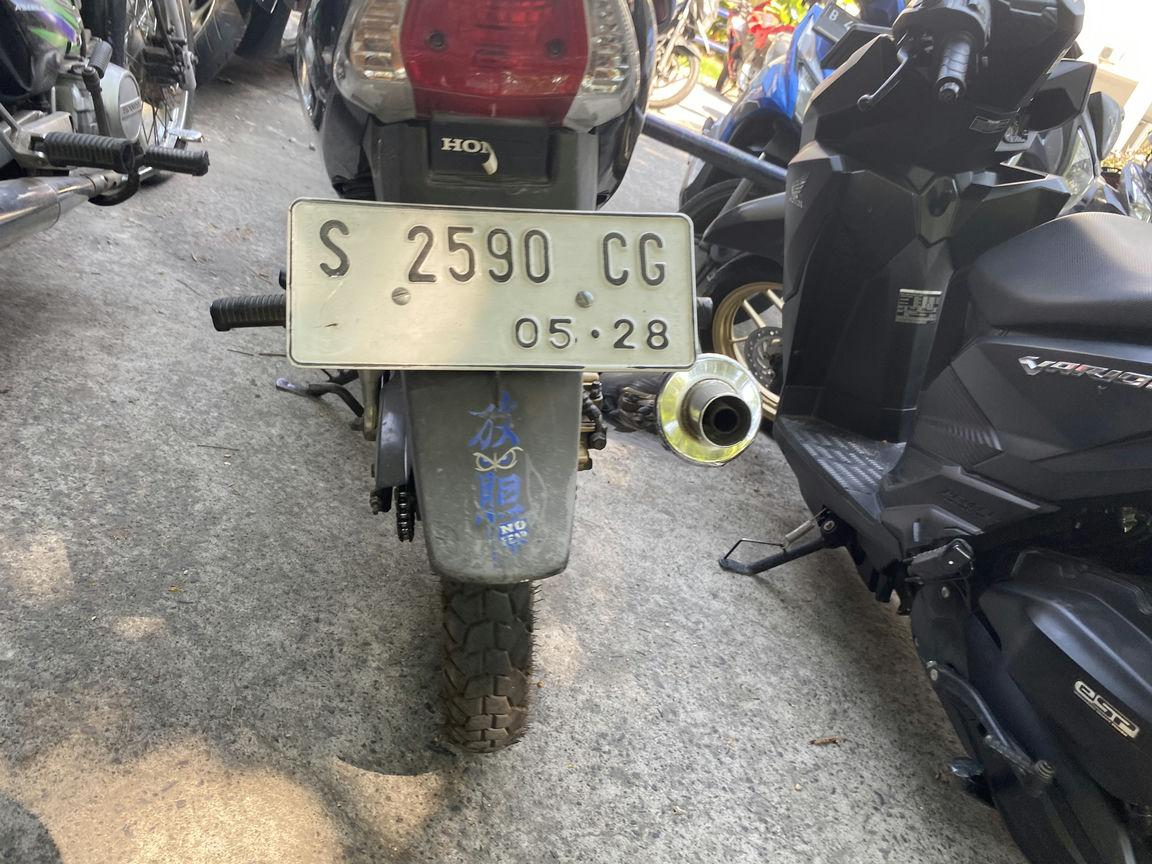plat: (288, 198, 695, 371)
